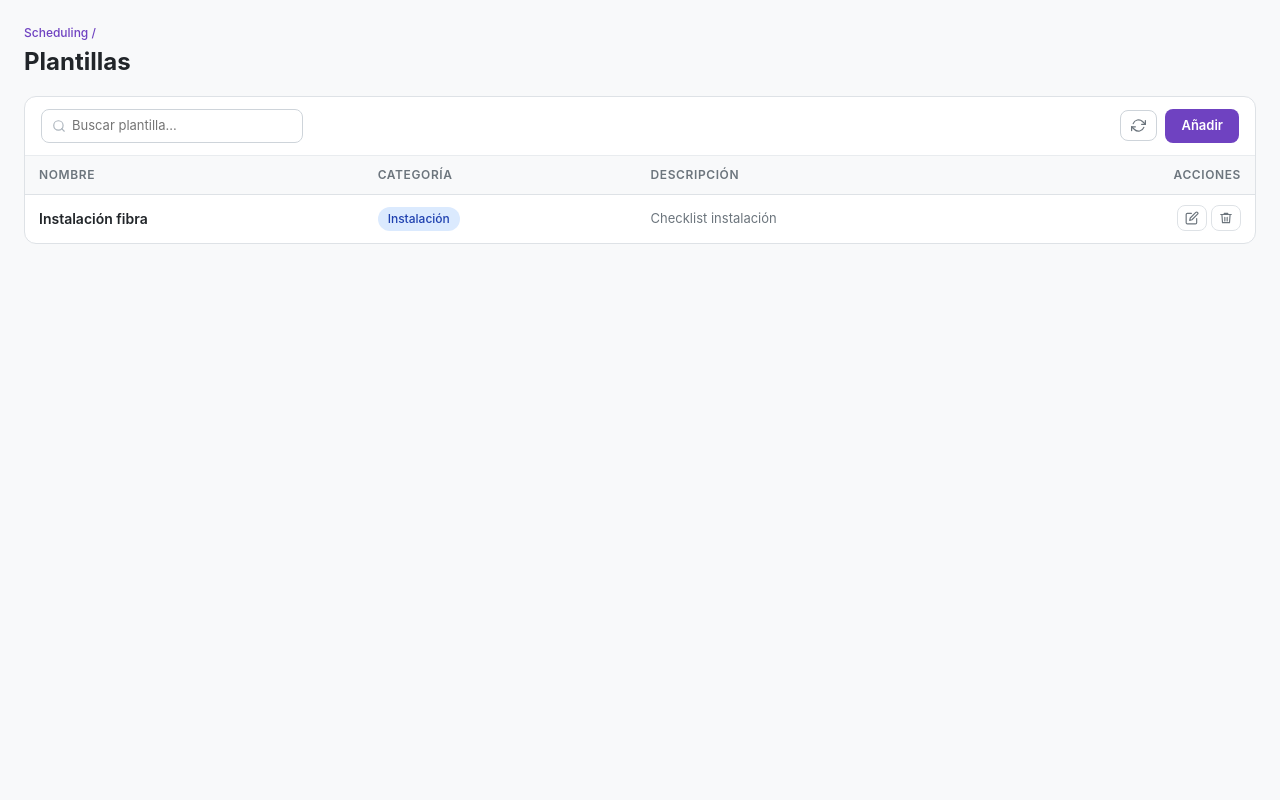
Test: SchedulingTemplatesPage — item editor in modal › opens edit modal with existing items
# Click edit button on first template row
Click the button titled "Editar". click: (1192, 218)
box: [1177,204,1207,230]
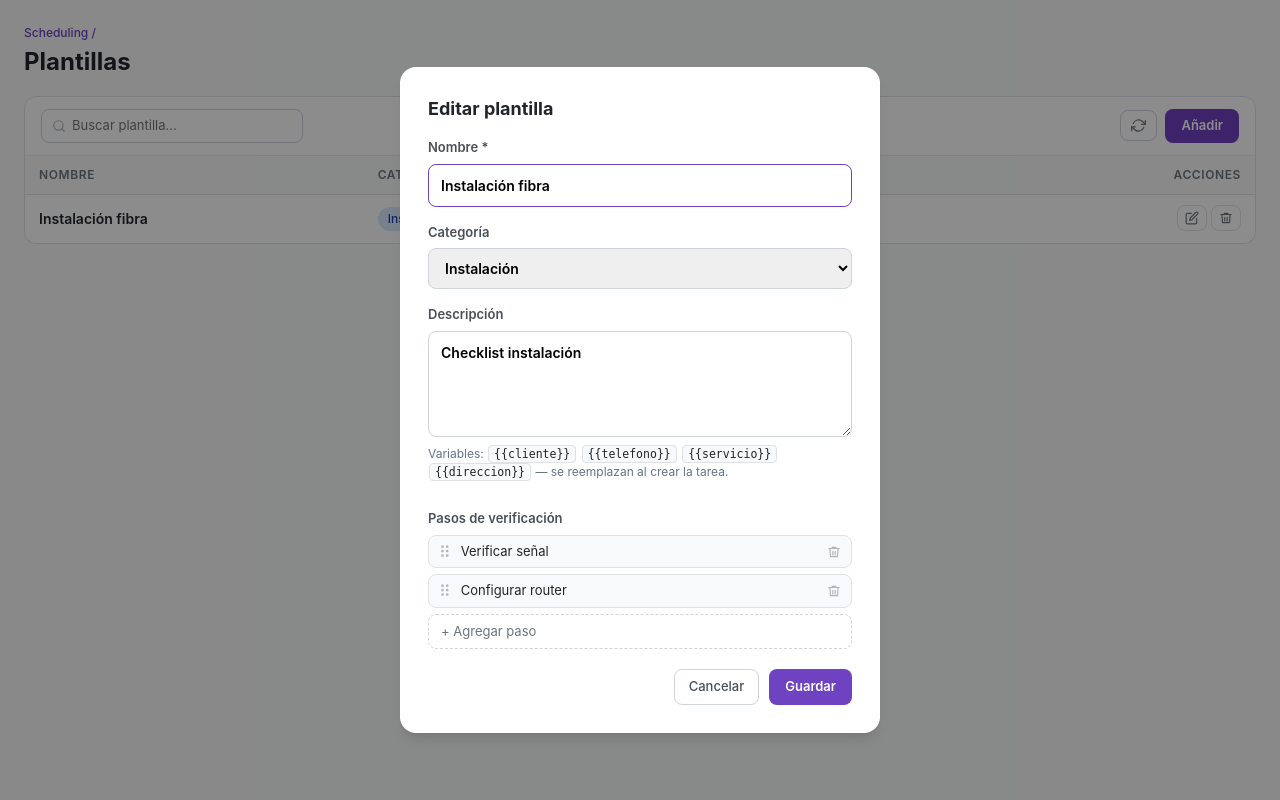
Now the heading "Editar plantilla" is shown, box [428,98,553,119]
Now the 1st field showing "Verificar señal" is shown, box [461,542,817,561]
Now the 2nd field showing "Configurar router" is shown, box [461,581,817,601]
